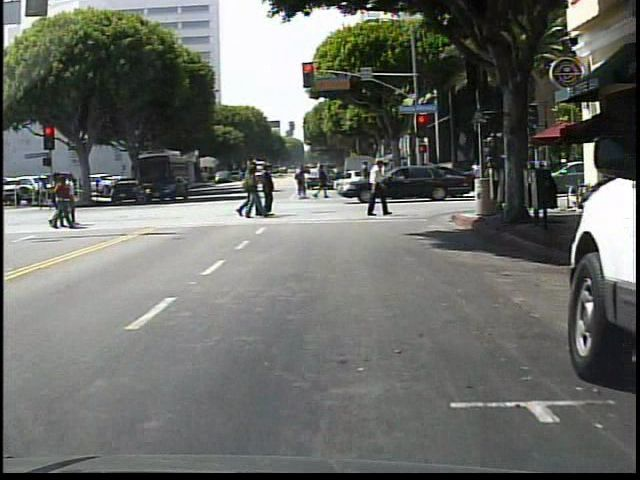person: (357, 157, 398, 223)
